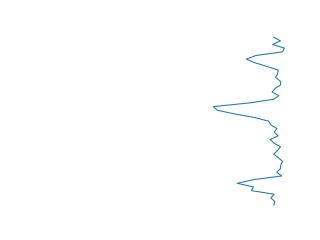underwaterNaturalLevee: (210, 29, 289, 206)
